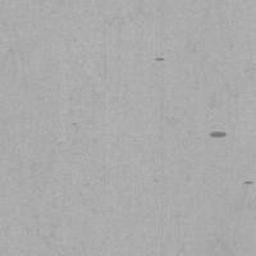Inclusion: (210, 131, 227, 138)
